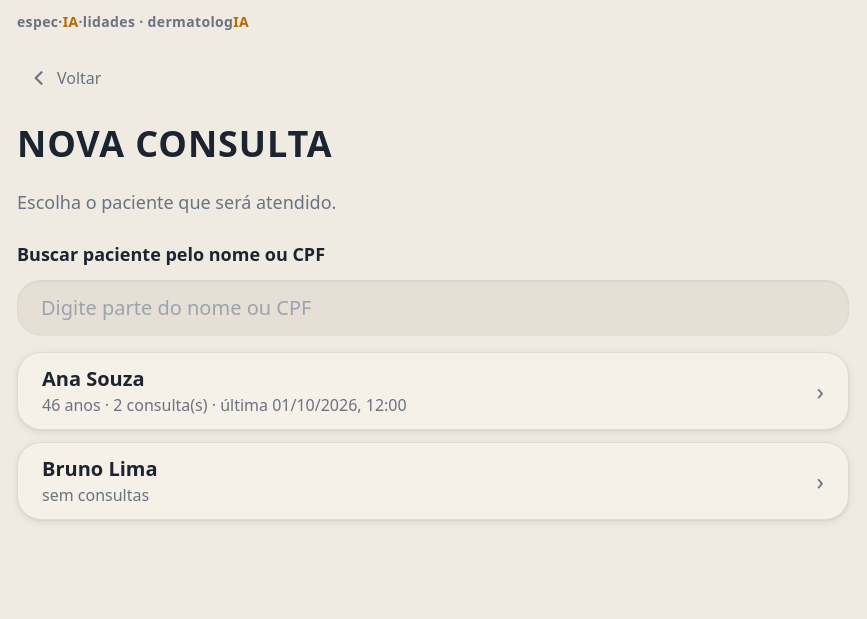
nova consulta e retorno › falha ao abrir o paciente avisa sem travar
The image size is (867, 619).
Click the button "Ana Souza".
click(93, 378)  # box [17,352,849,430]
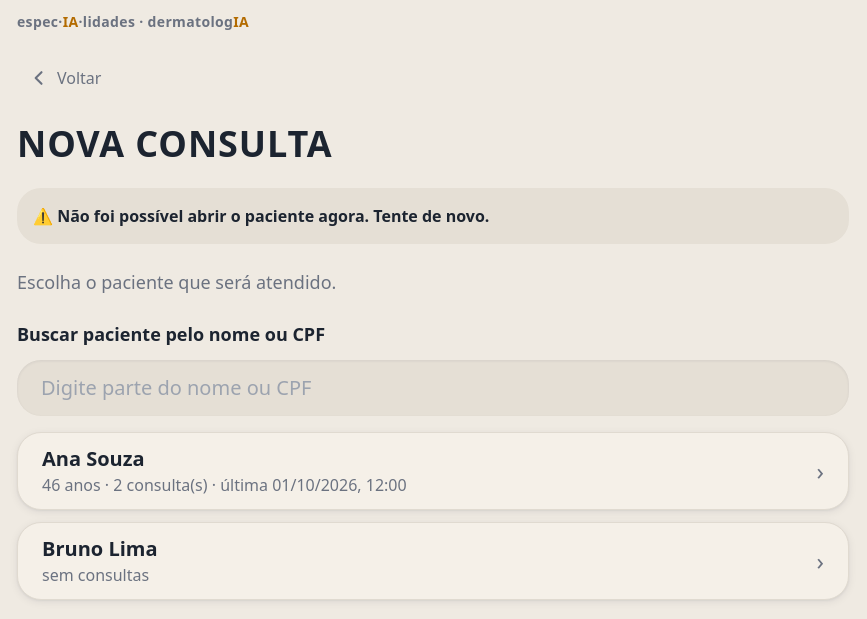
Check: the text "⚠️ Não foi possível abrir o paciente agora. Tente de novo." is shown, box [17,188,849,244]
